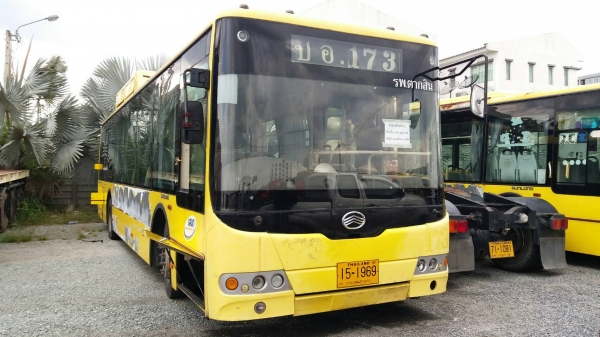bus: (88, 7, 451, 324)
